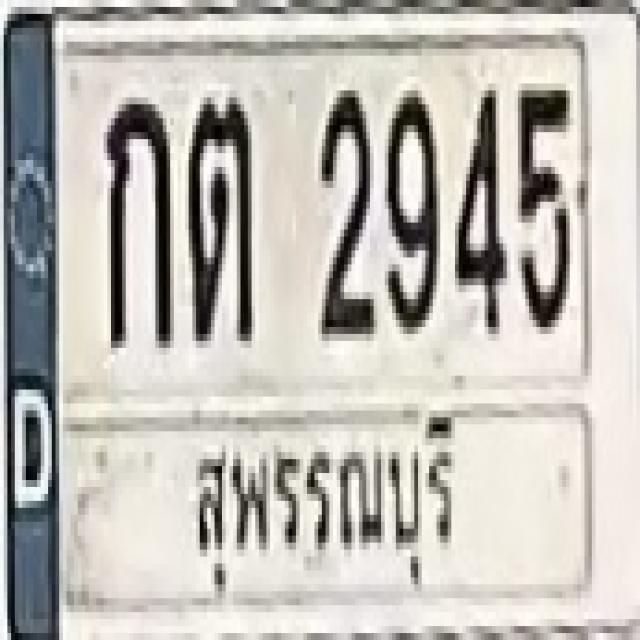2: (318, 87, 370, 330)
4: (451, 83, 503, 327)
5: (514, 83, 566, 327)
9: (384, 83, 436, 327)
A01: (104, 90, 170, 341)
A21: (185, 90, 248, 334)
SPB: (178, 390, 462, 597)
